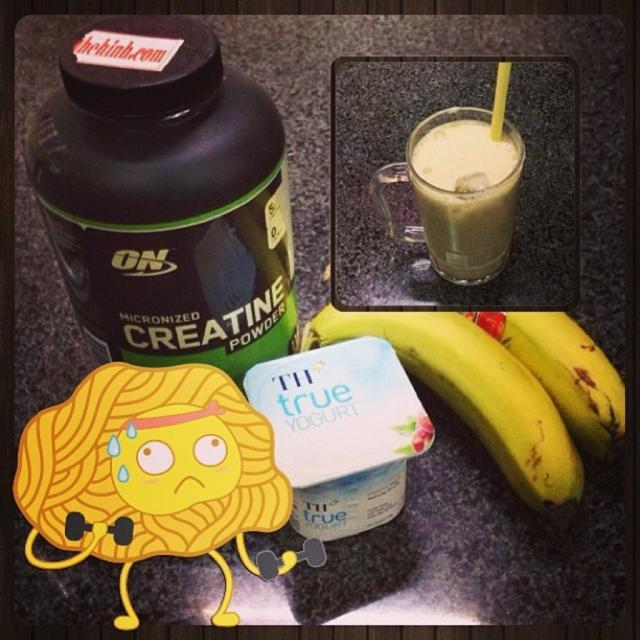Banana: (298, 305, 584, 514), (442, 306, 636, 465)
